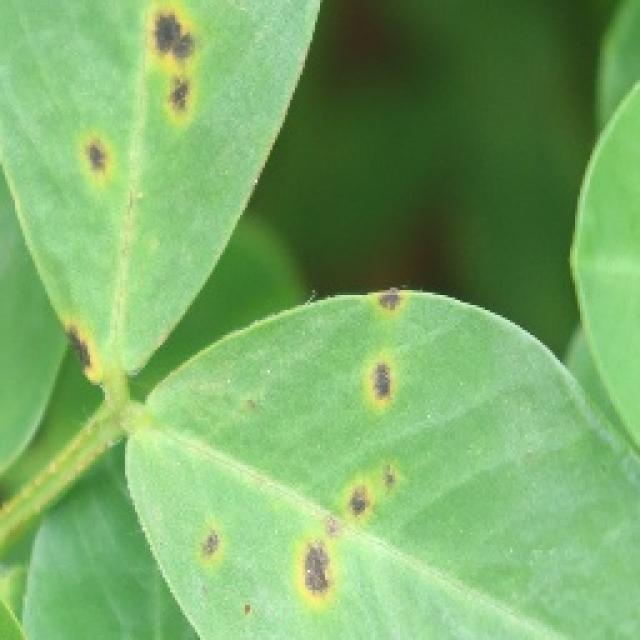Early_leaf_spot: (277, 458, 409, 606), (52, 118, 176, 236), (128, 0, 198, 140), (339, 352, 434, 442), (174, 526, 238, 576), (352, 288, 416, 330)
